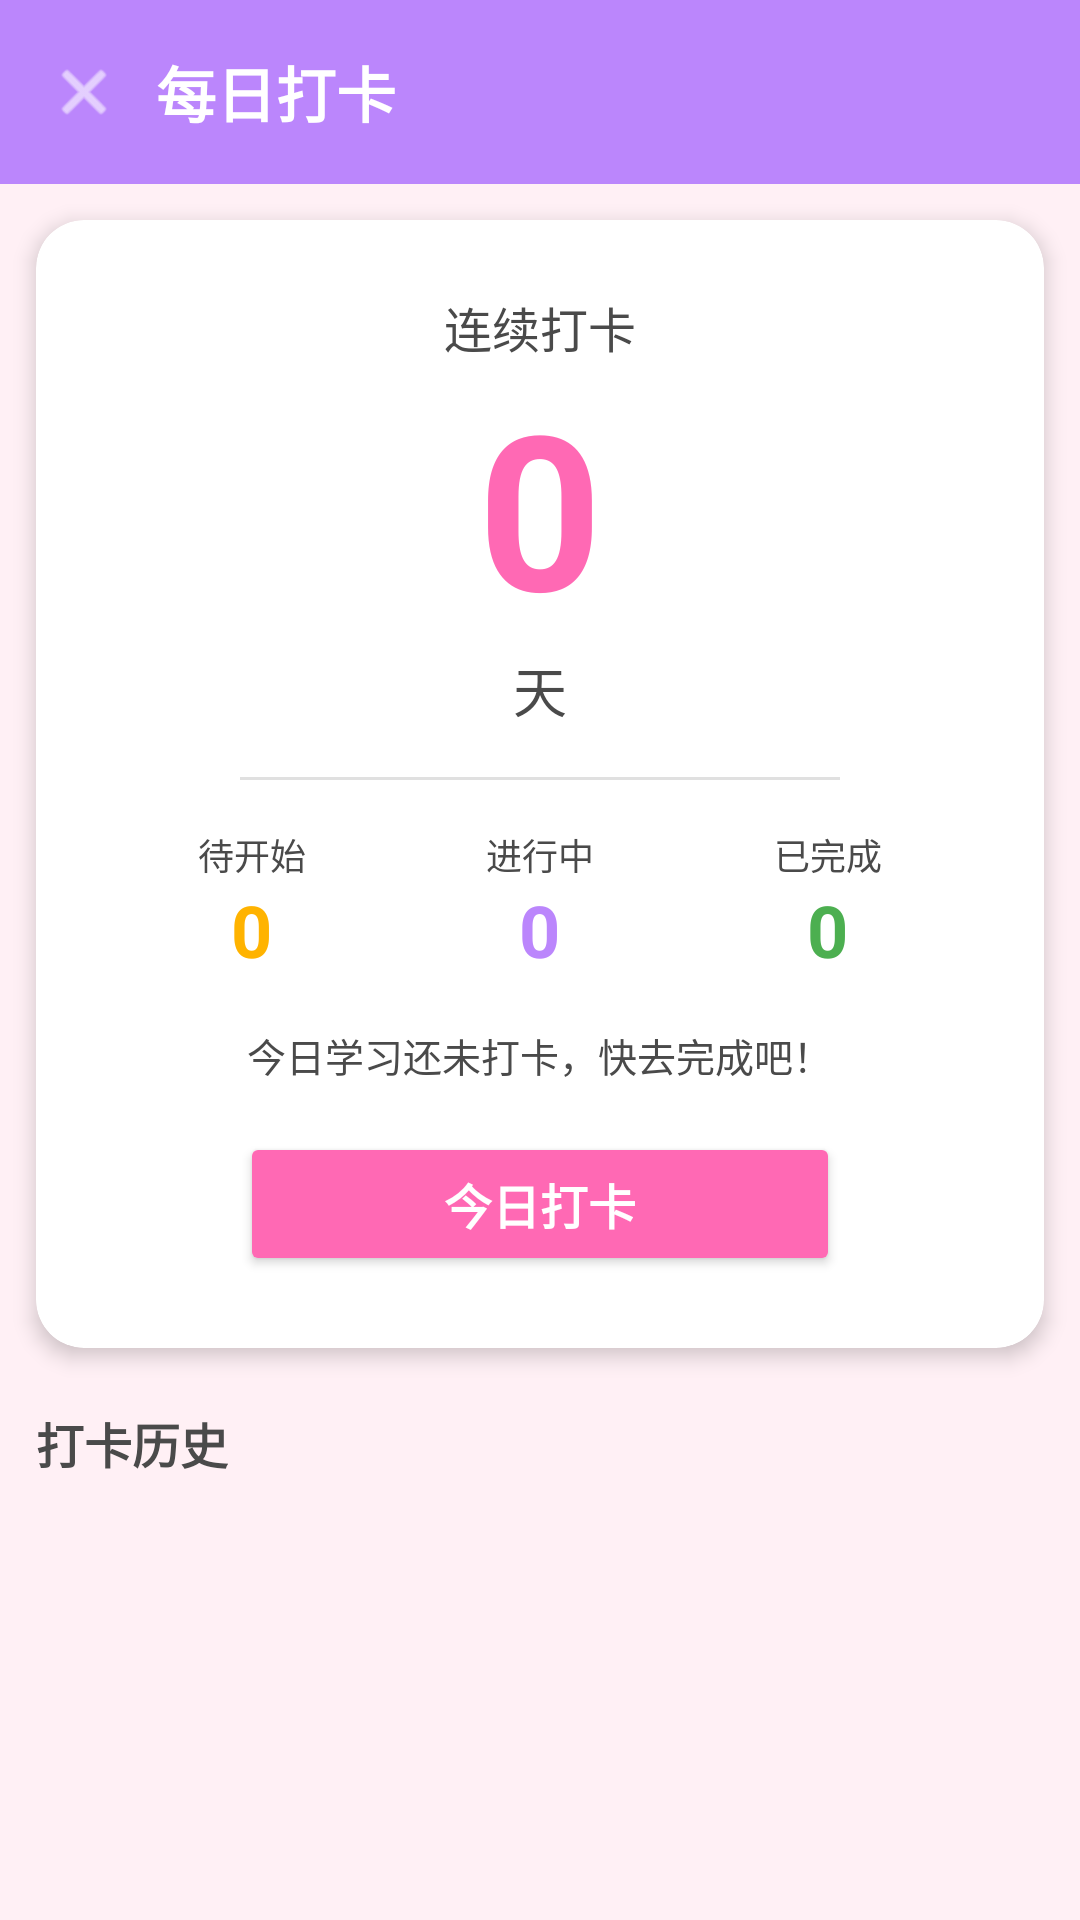

Icons on this 1080 × 1920 Android screen, each with its box as (x1, y1, x2, y2):
close clear cancel: (62, 70, 106, 114)
